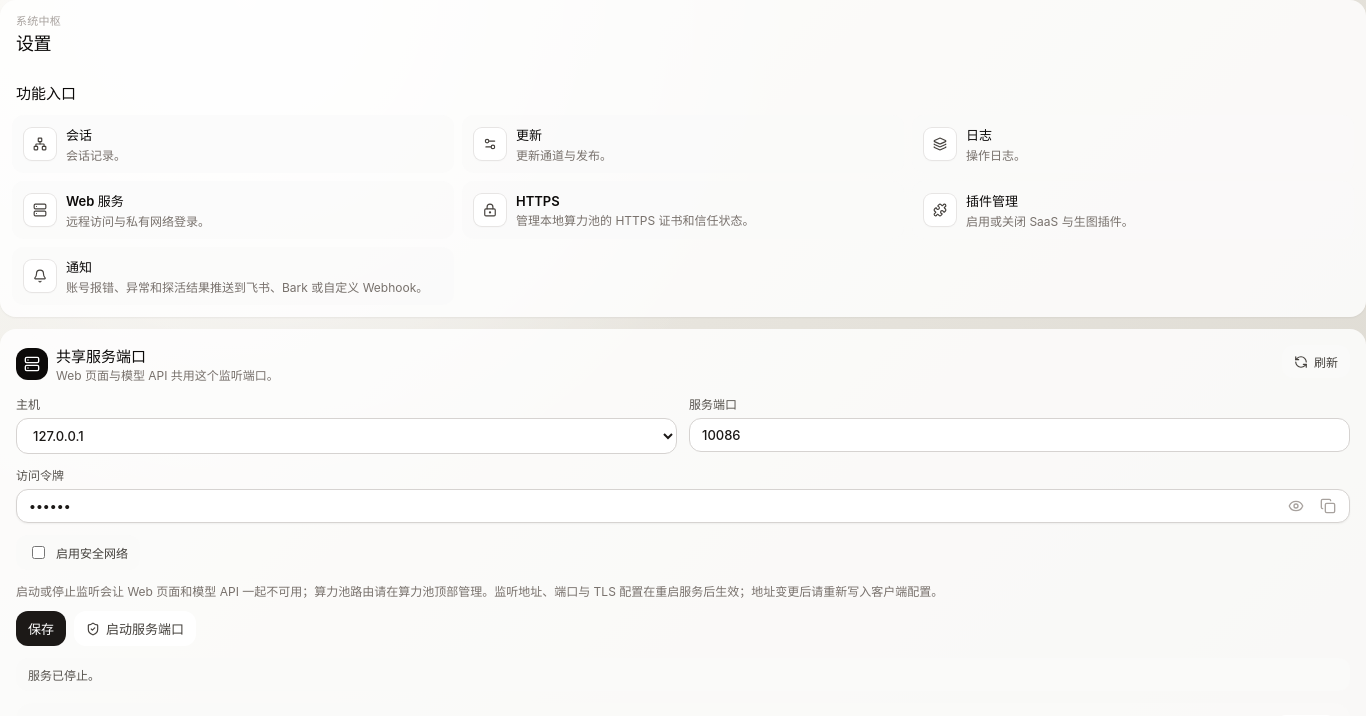
Test case: SettingsScreen › explains and blocks startup when the Web token is too short
The width and height of the screenshot is (1366, 716).
Click the button "启动服务端口": click(135, 628) left=74, top=611, right=196, bottom=646
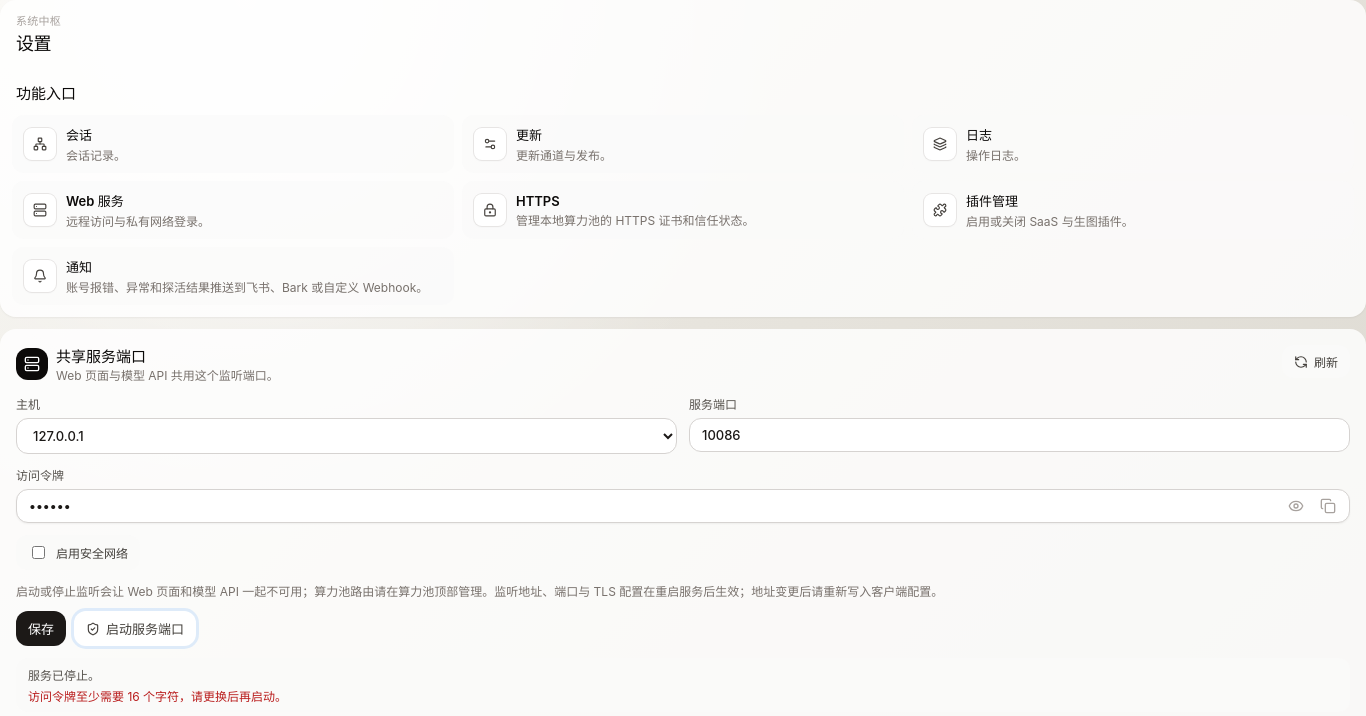
Result: the text "访问令牌至少需要 16 个字符，请更换后再启动。" is shown at left=28, top=689, right=287, bottom=704
